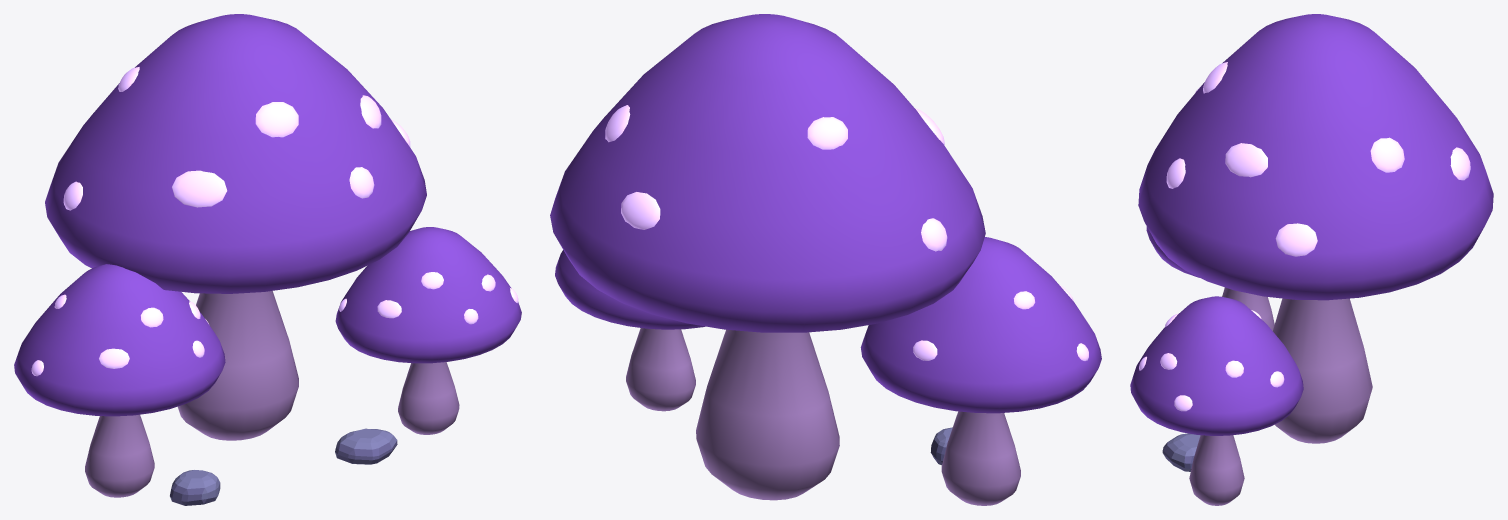
The model's file is amethyst_mushroom_cluster.glb.
The picture shows the model from 3 angles, left to right: view 1: azimuth 30°, elevation 25°; view 2: azimuth 150°, elevation 25°; view 3: azimuth 270°, elevation 25°; orthographic projection. The views are drawn at different scales.
Visible parts, largest first — view 1: Tall_Mushroom_Violet_Cap, Left_Mushroom_Violet_Cap, Right_Mushroom_Violet_Cap, Tall_Mushroom_Plump_Stem, Left_Mushroom_Plump_Stem, Right_Mushroom_Plump_Stem, Mushroom_Pebble_Right, Tall_Mushroom_Ivory_Spot_1, Mushroom_Pebble_Left, Tall_Mushroom_Ivory_Spot_2, Tall_Mushroom_Ivory_Spot_3; view 2: Tall_Mushroom_Violet_Cap, Left_Mushroom_Violet_Cap, Tall_Mushroom_Plump_Stem, Left_Mushroom_Plump_Stem, Right_Mushroom_Plump_Stem, Right_Mushroom_Violet_Cap, Tall_Mushroom_Ivory_Spot_7, Tall_Mushroom_Ivory_Spot_8, Tall_Mushroom_Ivory_Spot_9; view 3: Tall_Mushroom_Violet_Cap, Right_Mushroom_Violet_Cap, Tall_Mushroom_Plump_Stem, Right_Mushroom_Plump_Stem, Tall_Mushroom_Ivory_Spot_4, Tall_Mushroom_Ivory_Spot_5, Mushroom_Pebble_Right, Tall_Mushroom_Ivory_Spot_6, Left_Mushroom_Plump_Stem, Tall_Mushroom_Ivory_Spot_7, Tall_Mushroom_Ivory_Spot_3.
Boxes of the visible parts, box(x1,y1,x2,y2) form: Tall_Mushroom_Violet_Cap: box(45, 14, 426, 293); Left_Mushroom_Violet_Cap: box(14, 264, 225, 416); Right_Mushroom_Violet_Cap: box(335, 227, 521, 363); Tall_Mushroom_Plump_Stem: box(178, 291, 298, 440); Left_Mushroom_Plump_Stem: box(85, 414, 154, 497); Right_Mushroom_Plump_Stem: box(398, 362, 459, 434); Mushroom_Pebble_Right: box(335, 428, 397, 464); Tall_Mushroom_Ivory_Spot_1: box(172, 170, 227, 207); Mushroom_Pebble_Left: box(170, 470, 220, 505); Tall_Mushroom_Ivory_Spot_2: box(255, 102, 298, 137); Tall_Mushroom_Ivory_Spot_3: box(349, 167, 374, 198); Tall_Mushroom_Violet_Cap: box(550, 14, 985, 332); Left_Mushroom_Violet_Cap: box(860, 237, 1101, 413); Tall_Mushroom_Plump_Stem: box(696, 329, 839, 500); Left_Mushroom_Plump_Stem: box(941, 411, 1020, 505); Right_Mushroom_Plump_Stem: box(626, 328, 695, 411); Right_Mushroom_Violet_Cap: box(555, 250, 705, 329); Tall_Mushroom_Ivory_Spot_7: box(621, 192, 660, 229); Tall_Mushroom_Ivory_Spot_8: box(807, 117, 847, 149); Tall_Mushroom_Ivory_Spot_9: box(921, 218, 947, 251); Tall_Mushroom_Violet_Cap: box(1138, 14, 1493, 300); Right_Mushroom_Violet_Cap: box(1130, 296, 1303, 435); Tall_Mushroom_Plump_Stem: box(1273, 298, 1372, 443); Right_Mushroom_Plump_Stem: box(1189, 435, 1244, 505); Tall_Mushroom_Ivory_Spot_4: box(1225, 143, 1267, 177); Tall_Mushroom_Ivory_Spot_5: box(1275, 223, 1317, 256); Mushroom_Pebble_Right: box(1162, 433, 1200, 471); Tall_Mushroom_Ivory_Spot_6: box(1370, 137, 1404, 172); Left_Mushroom_Plump_Stem: box(1222, 287, 1274, 330); Tall_Mushroom_Ivory_Spot_7: box(1450, 147, 1470, 180); Tall_Mushroom_Ivory_Spot_3: box(1166, 158, 1185, 188).
Size of the model in its own units: 1.68 by 1.37 by 1.12.
